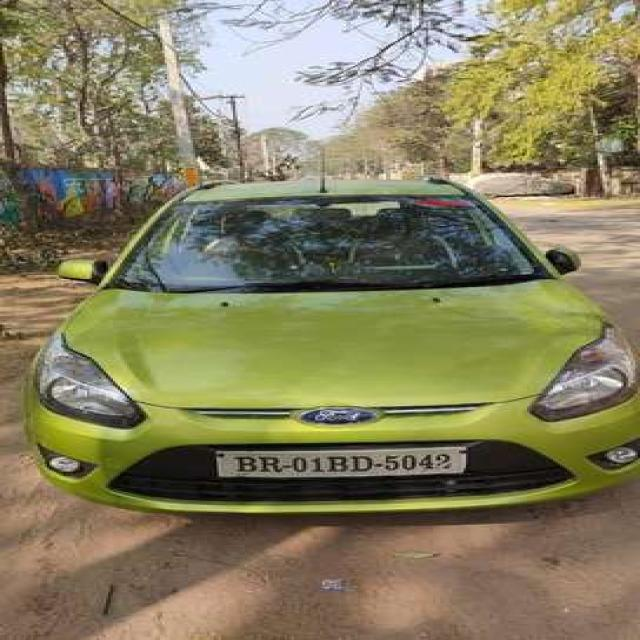plate: (212, 450, 466, 475)
